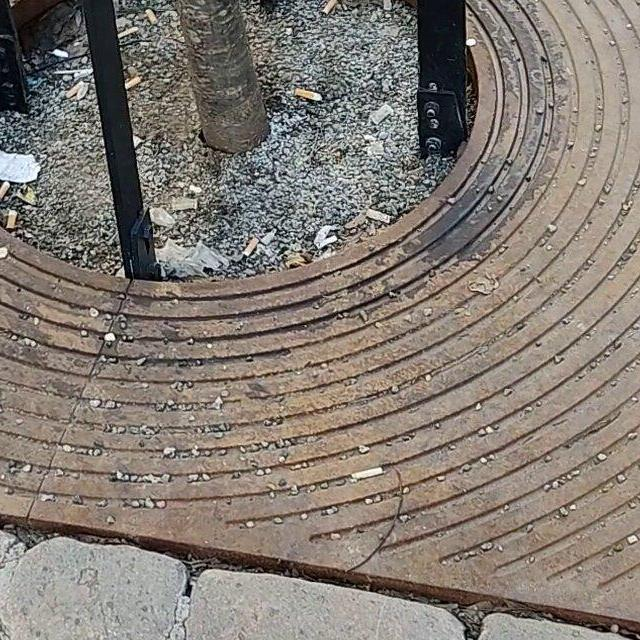Cigarette Butt: (292, 86, 317, 102), (1, 208, 18, 230), (64, 80, 83, 99), (242, 240, 257, 259), (127, 76, 145, 90), (321, 0, 334, 16), (0, 178, 9, 200), (146, 6, 157, 23)
